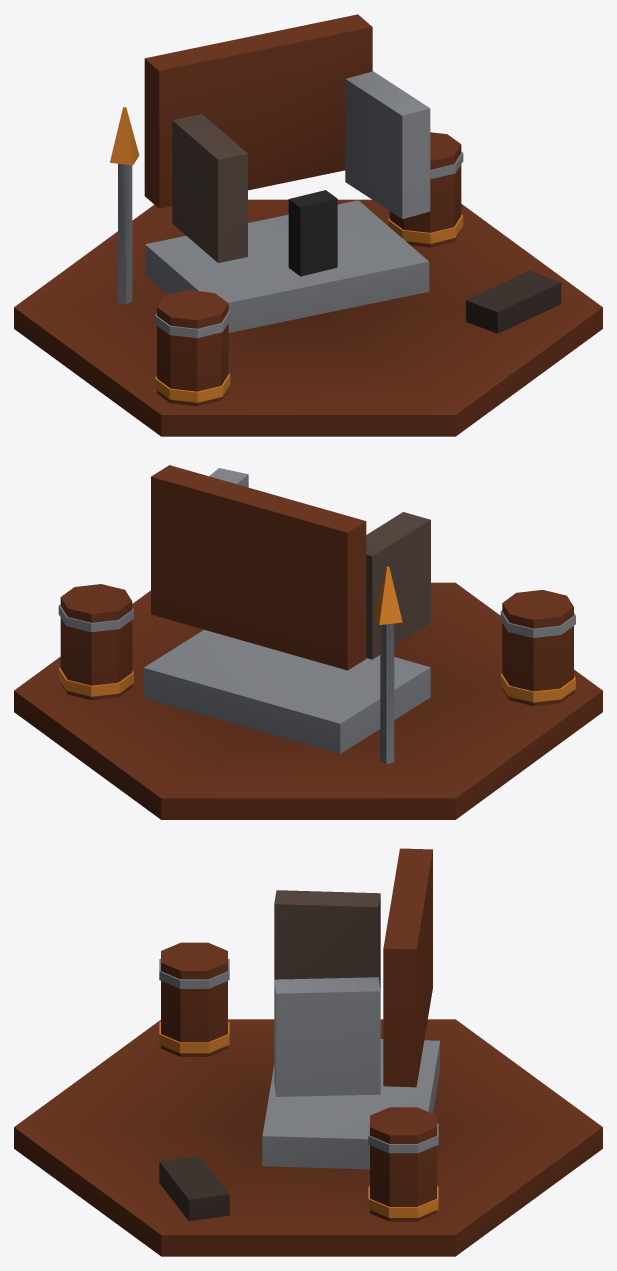
File: camp_barbarian.glb
The picture shows the model from 3 angles, top to bottom: view 1: azimuth 30°, elevation 25°; view 2: azimuth 150°, elevation 25°; view 3: azimuth 270°, elevation 25°; orthographic projection.
Visible parts, largest first — view 1: camp_barbarian; view 2: camp_barbarian; view 3: camp_barbarian.
Part boxes in pixels (x1,y1,x2,y2): camp_barbarian: [14, 14, 602, 436]; camp_barbarian: [14, 465, 602, 819]; camp_barbarian: [14, 848, 602, 1256].
Size of the model in its own units: 0.5369 by 0.29 by 0.62.
